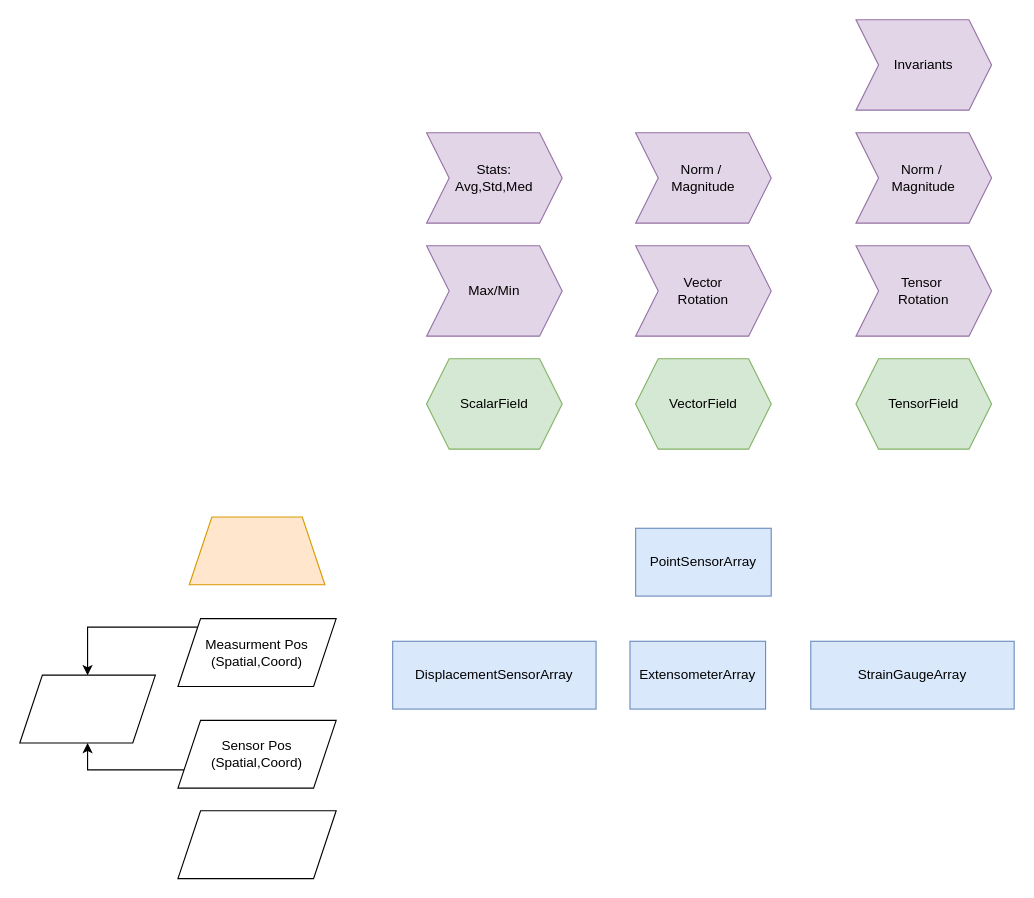
The diagram is 1034 pixels wide and 898 high, and some of its shapes have lost their labels. Each missing label, with the box of its shape:
Line of Sight (Spatial,Vector): (19, 674, 155, 743)
Measurement Times (Time): (177, 810, 336, 879)
SensorArray: (188, 516, 325, 585)
